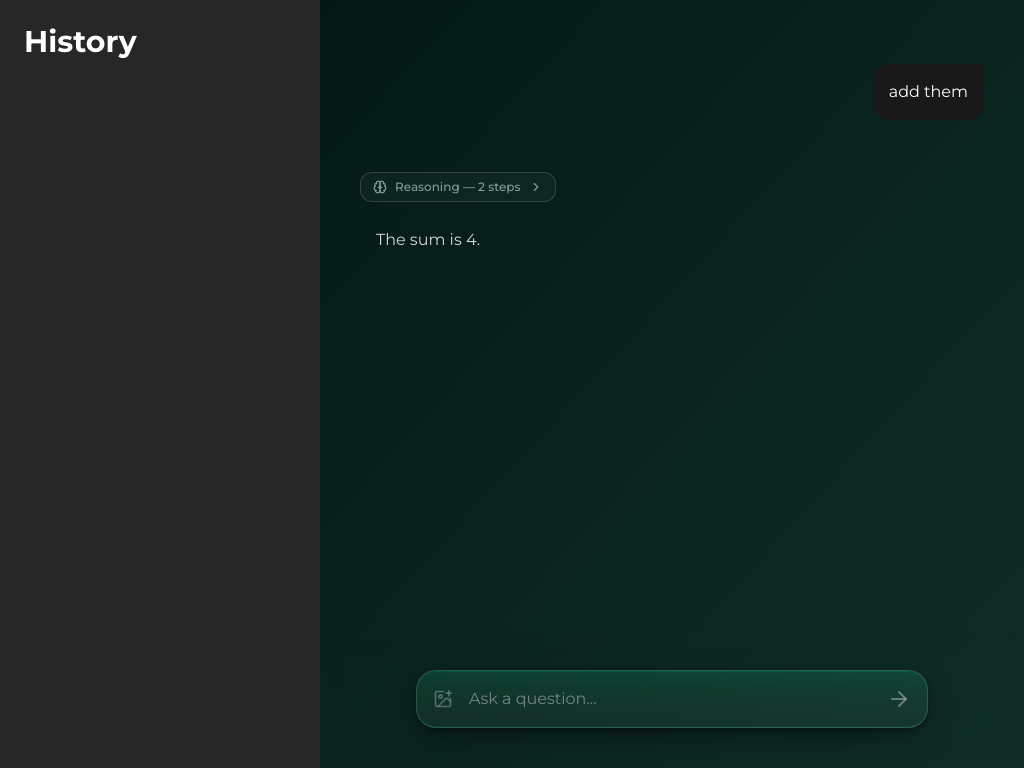
Test case: persisted trace replay (#90) › renders a collapsed, expandable strip above an assistant message that carries a trace
Expected: the text "I should add the numbers." is not shown
Click the button "Reasoning — 2 steps" at {"x": 458, "y": 187}, box [361,173,554,201]
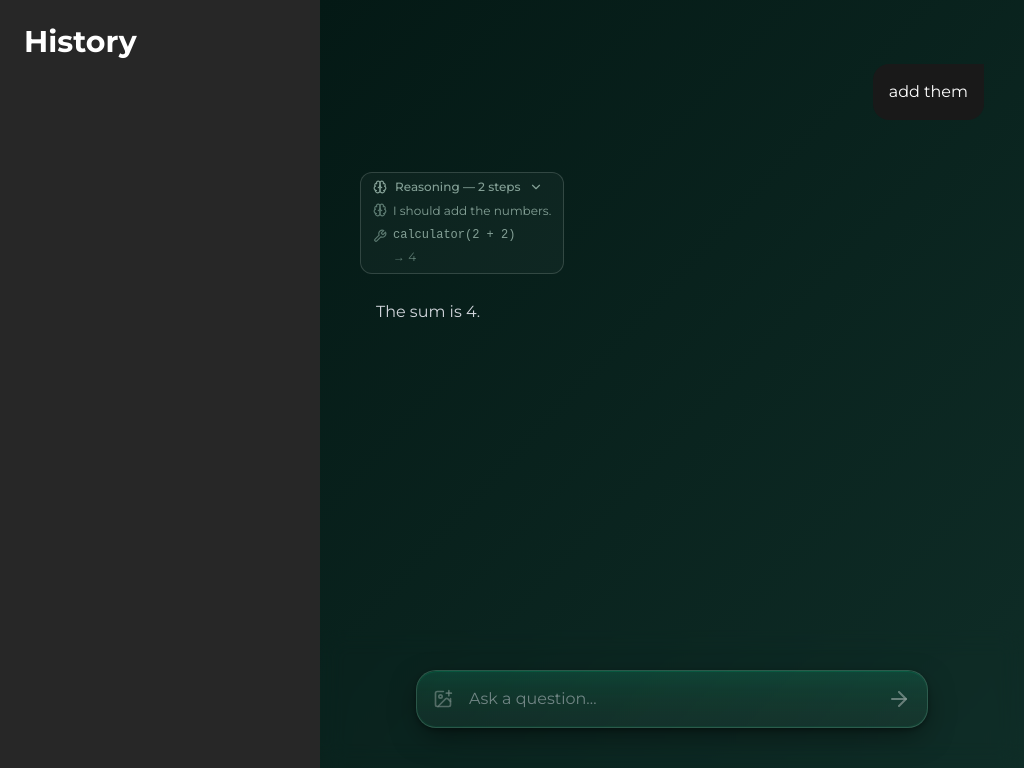
Expected: the text "I should add the numbers." is shown, [393,201,551,220]
Expected: the text "calculator(2 + 2)" is shown, [393,226,515,242]
